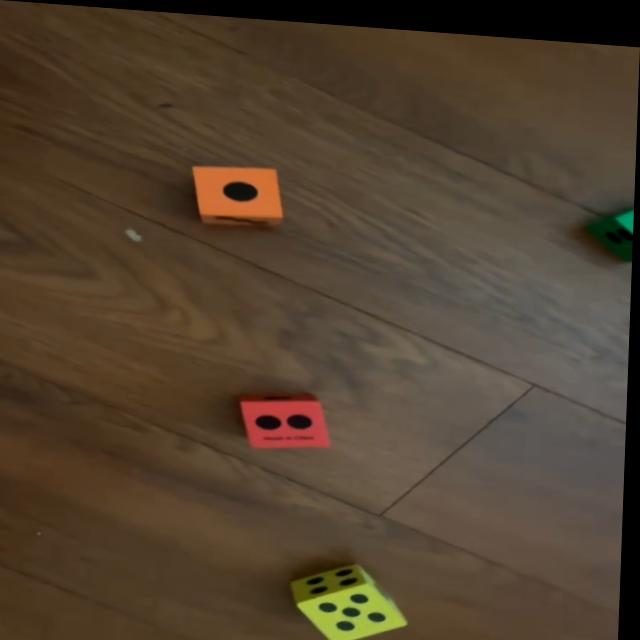red_block: (243, 385, 336, 449)
